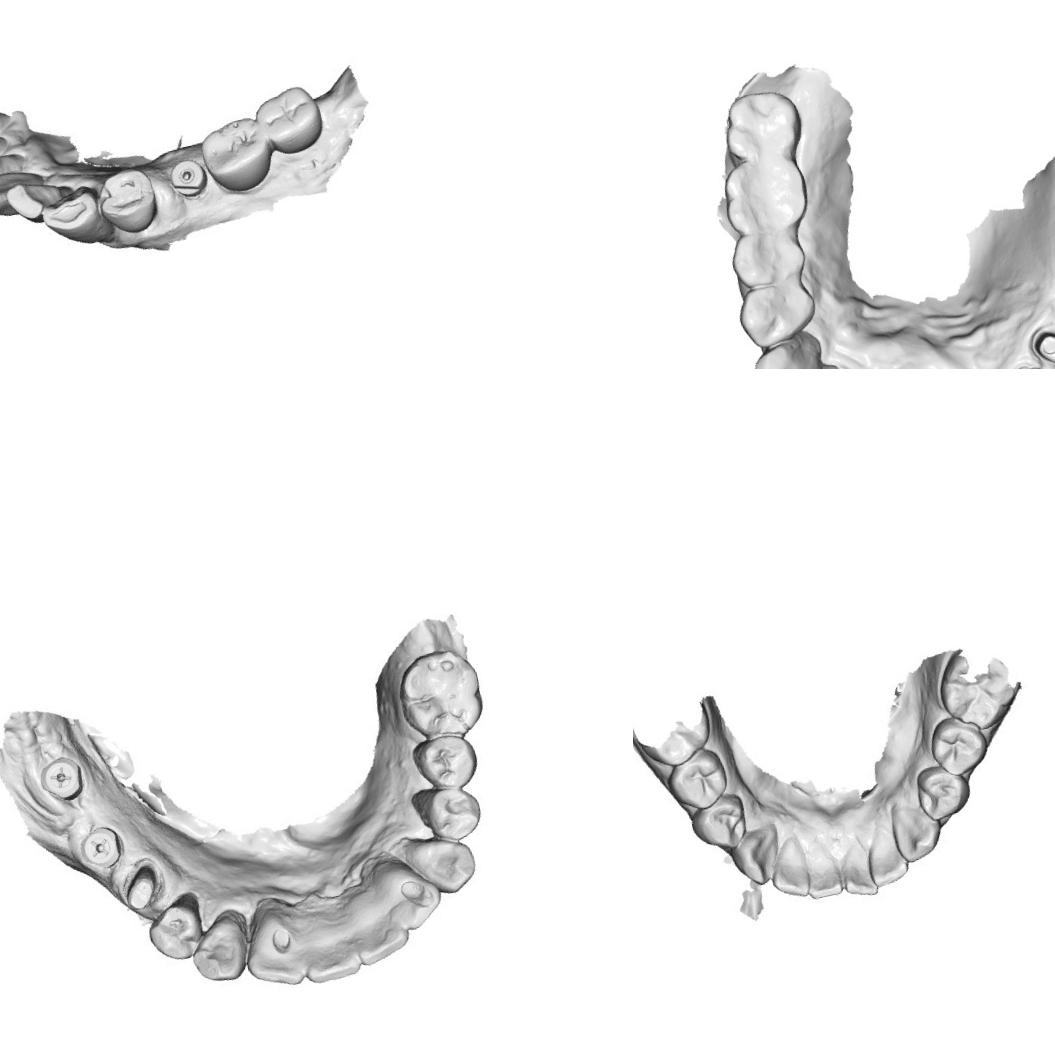abutment: (1026, 321, 1055, 369)
canine: (395, 826, 482, 906), (182, 910, 257, 994), (39, 188, 109, 252), (886, 800, 944, 874), (729, 825, 785, 890), (747, 330, 833, 369)
crown: (113, 863, 166, 916)
implant: (168, 156, 209, 200)
implant_plus: (38, 752, 85, 803), (79, 824, 124, 871)
incisor: (236, 897, 307, 991), (294, 906, 360, 985), (376, 852, 442, 928), (343, 898, 410, 966), (7, 176, 72, 226), (762, 842, 812, 907), (861, 817, 910, 882), (834, 841, 880, 904), (801, 848, 844, 906), (0, 166, 41, 223), (0, 150, 20, 203)
molar: (390, 644, 488, 747), (714, 148, 816, 242), (931, 634, 1022, 732), (713, 82, 810, 168), (194, 110, 280, 200), (253, 82, 331, 161), (633, 704, 722, 772)
premolar: (729, 271, 824, 355), (724, 220, 813, 294), (142, 890, 216, 968), (92, 164, 160, 241), (414, 777, 488, 847), (658, 746, 732, 815), (407, 728, 480, 796), (686, 790, 757, 858), (924, 712, 991, 783), (907, 759, 974, 826)
